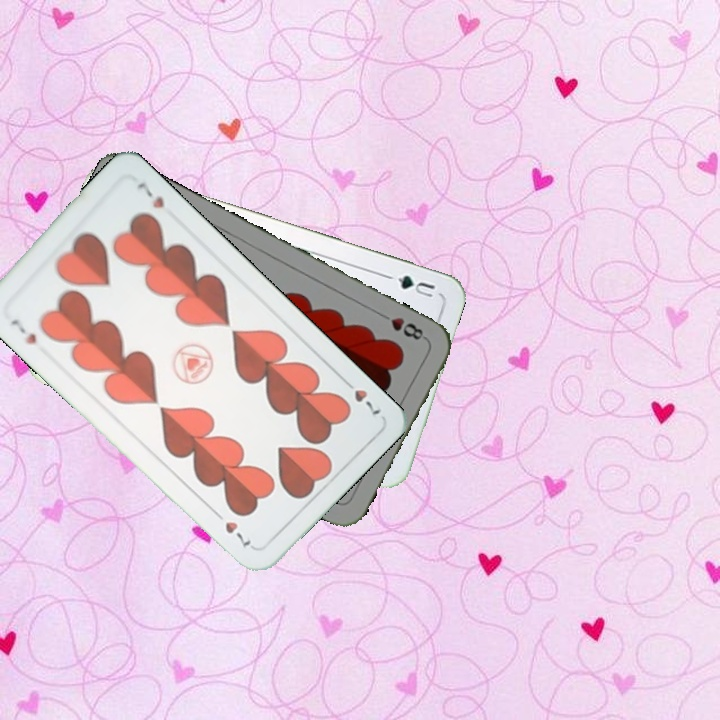GU: (383, 271, 438, 301)
H7: (337, 373, 384, 418), (6, 314, 39, 347)
H8: (375, 308, 429, 343)
